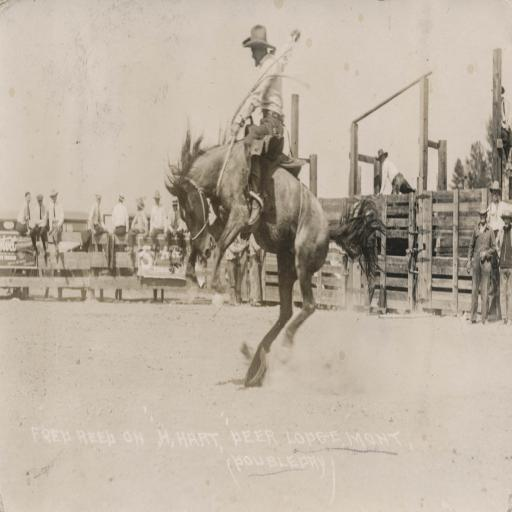Horse: (164, 126, 394, 380)
